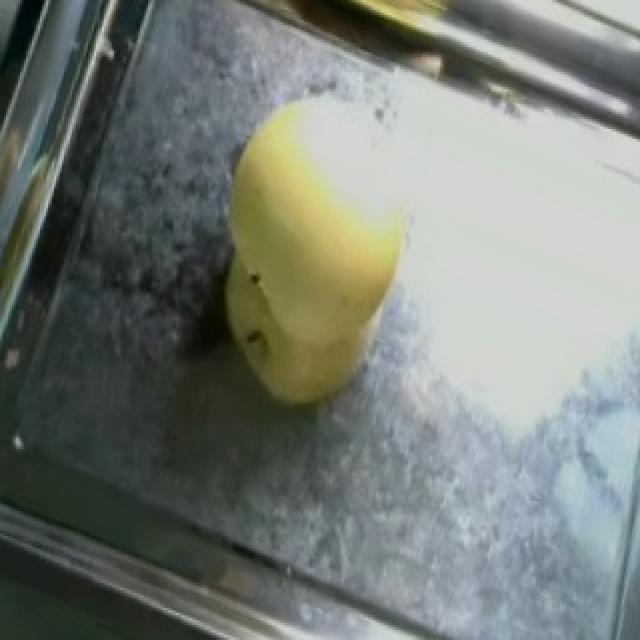Fruit: (170, 59, 450, 437)
